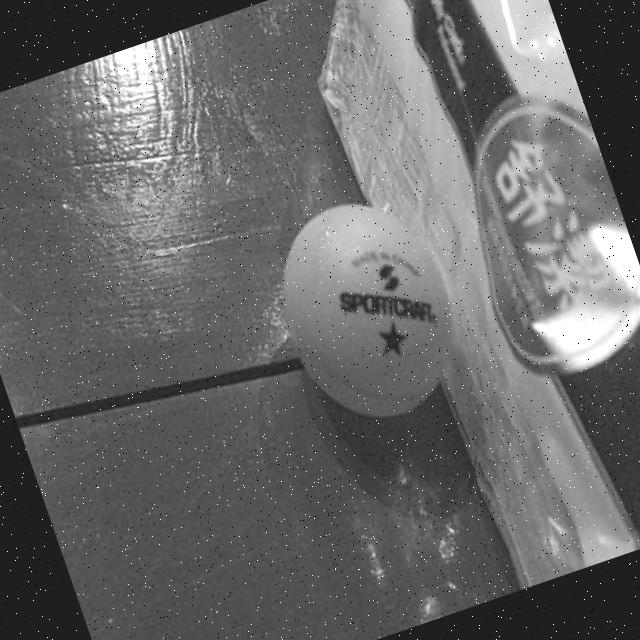ping-pong-ball: (252, 178, 486, 443)
